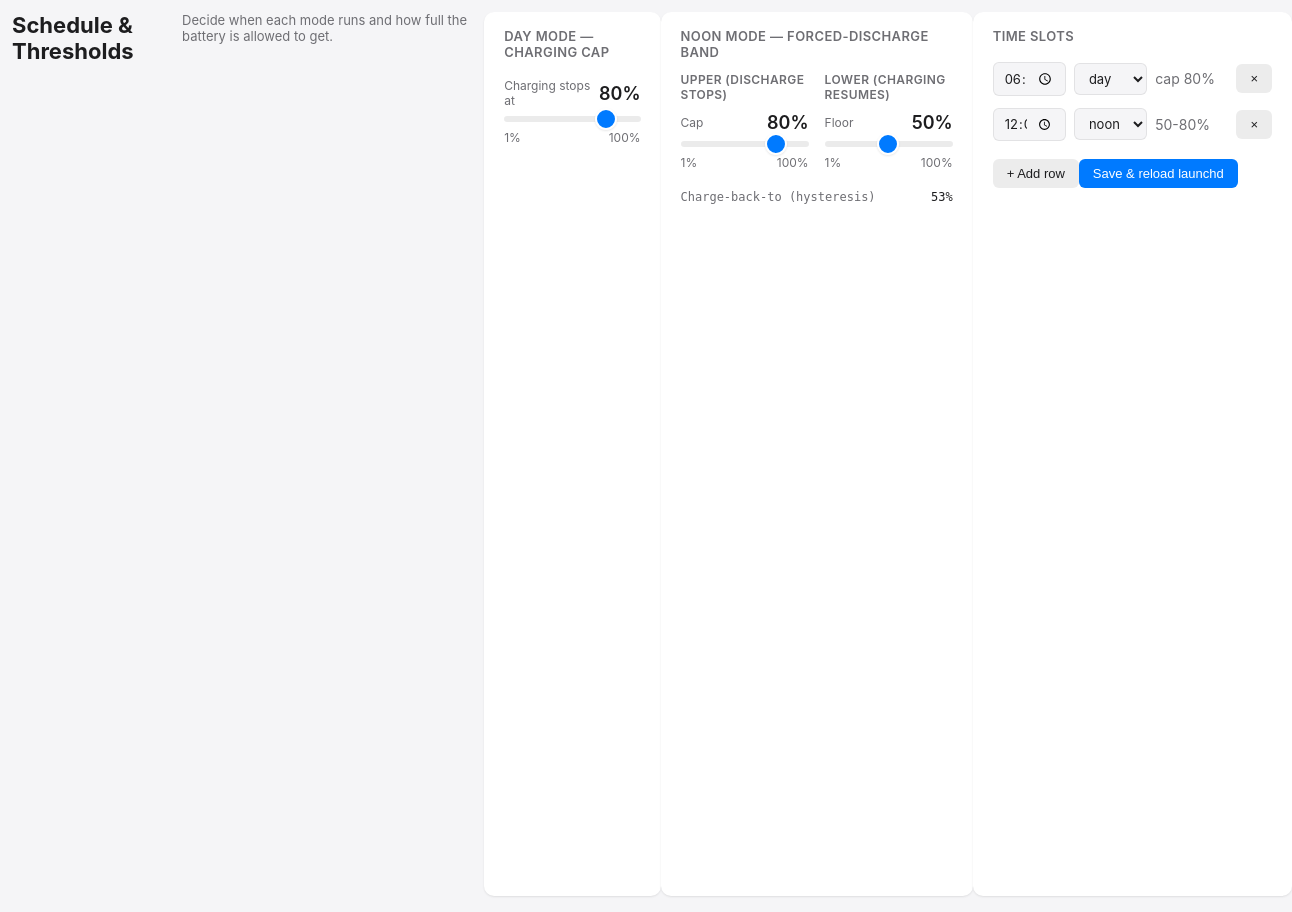
Test: SchedulePage › shows error message when setThresholds rejects
Click the button with test id "save-schedule" at [1158, 174], box [1079,159,1238,188]
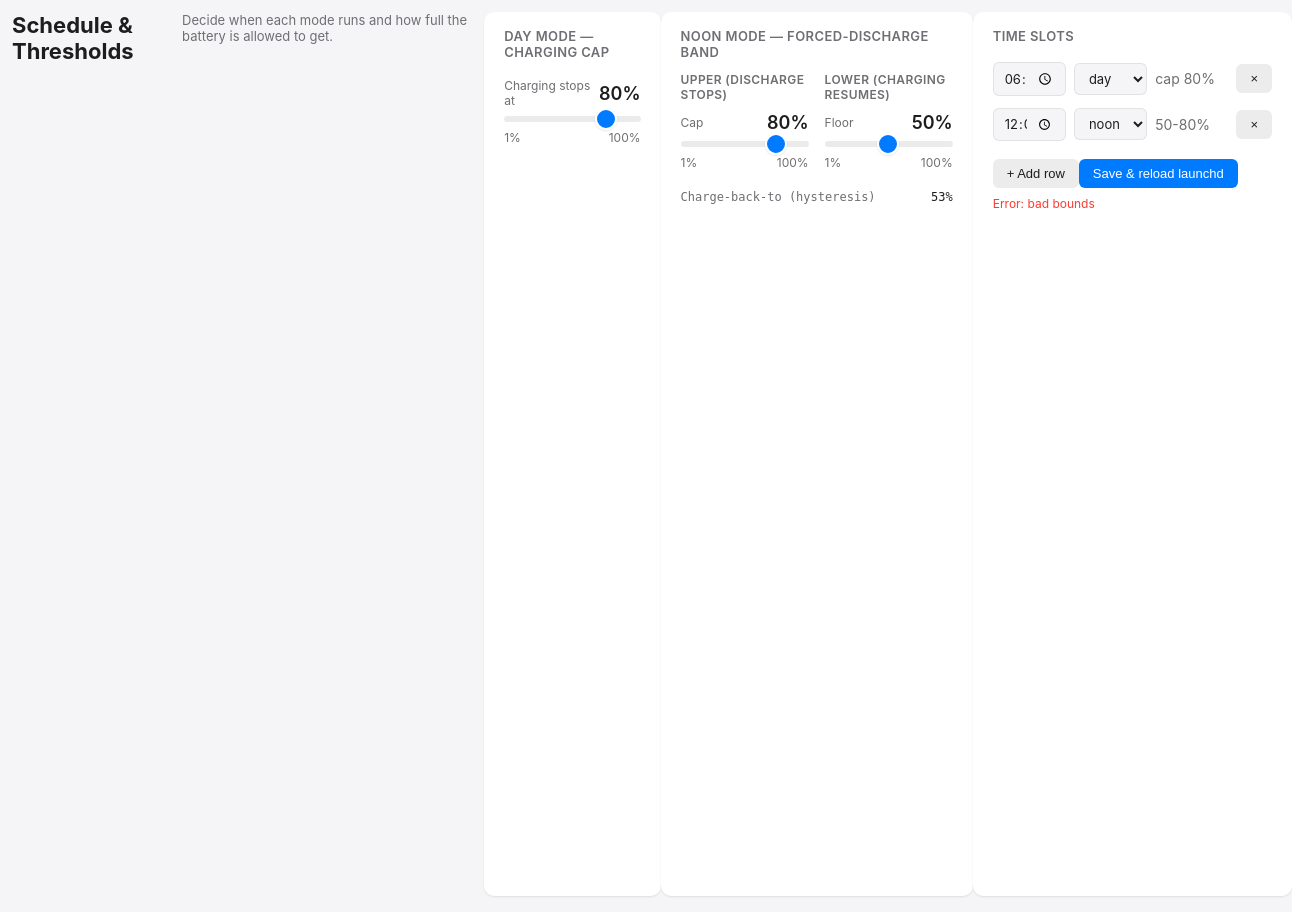
Now the text "Error: bad bounds" is shown, box [993,196,1095,211]
